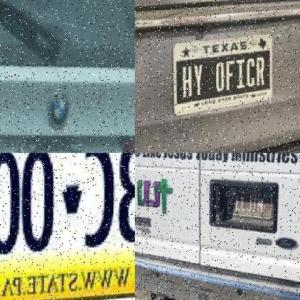Plate: (0, 153, 135, 282), (174, 34, 275, 116), (231, 187, 275, 220)
